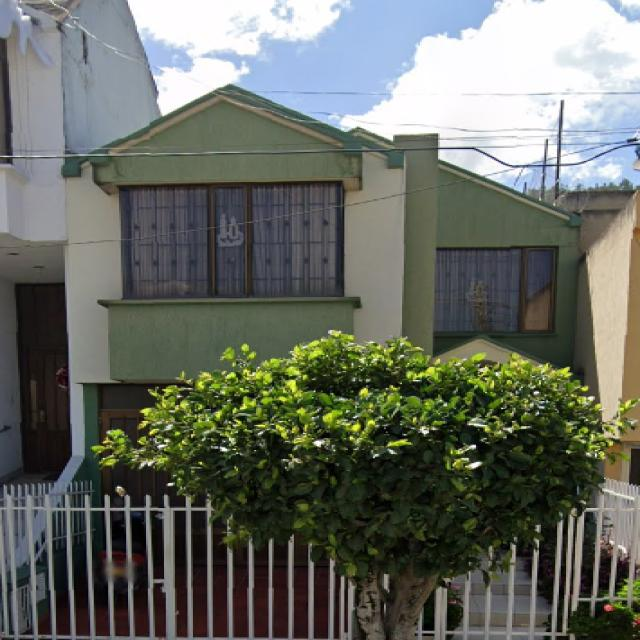Fachada: (65, 86, 579, 442), (2, 0, 159, 478), (566, 189, 640, 483)
